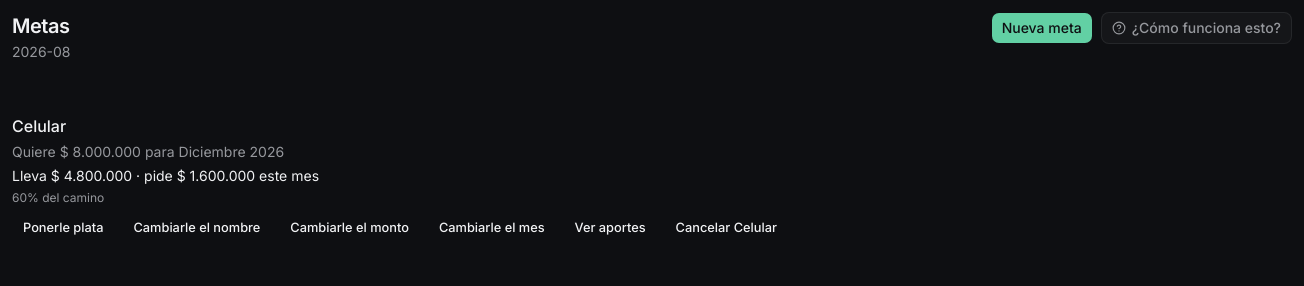
Test case: AC-42 — a contribution is a listed record, and it can be removed › Every contribution is listed with its month and its amount
Click the button "Ver aportes" at (610, 228), box x1=564 y1=214 x2=657 y2=242
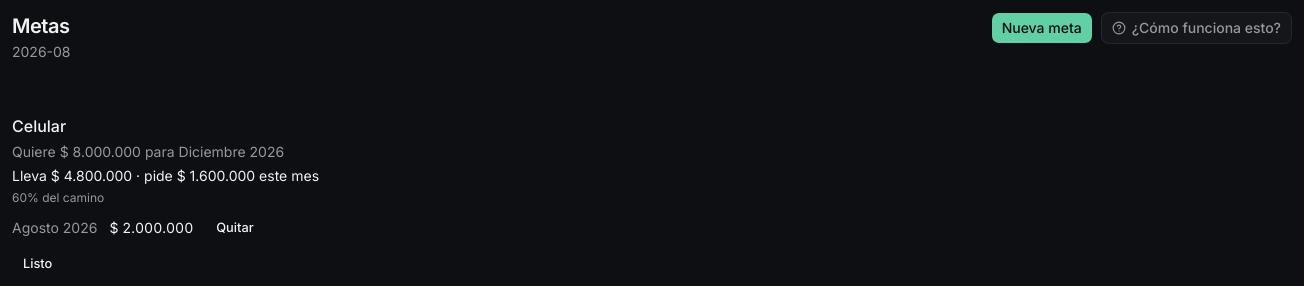
Now the text "$ 2.000.000" is shown, box x1=109 y1=218 x2=193 y2=238
Now the text "Agosto 2026" is shown, box x1=12 y1=218 x2=97 y2=238
